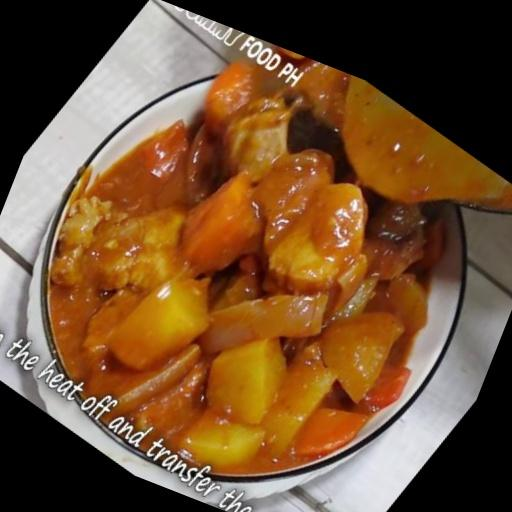pork caldereta: (53, 60, 503, 465)
